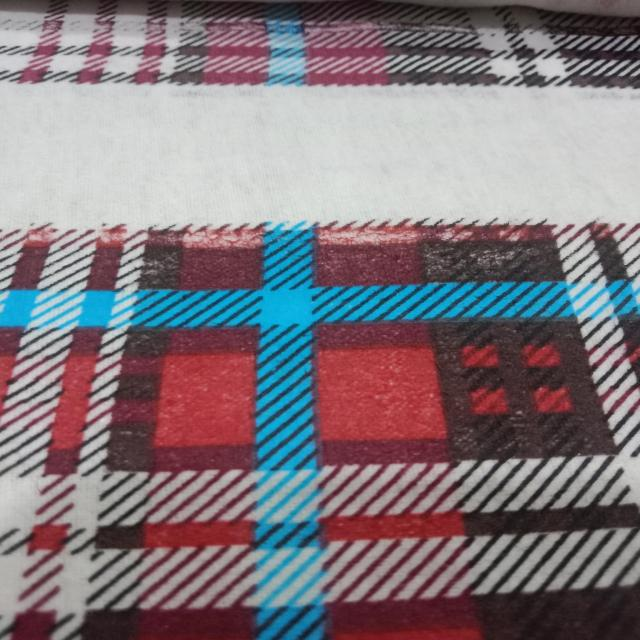selvet: (8, 62, 636, 240)
